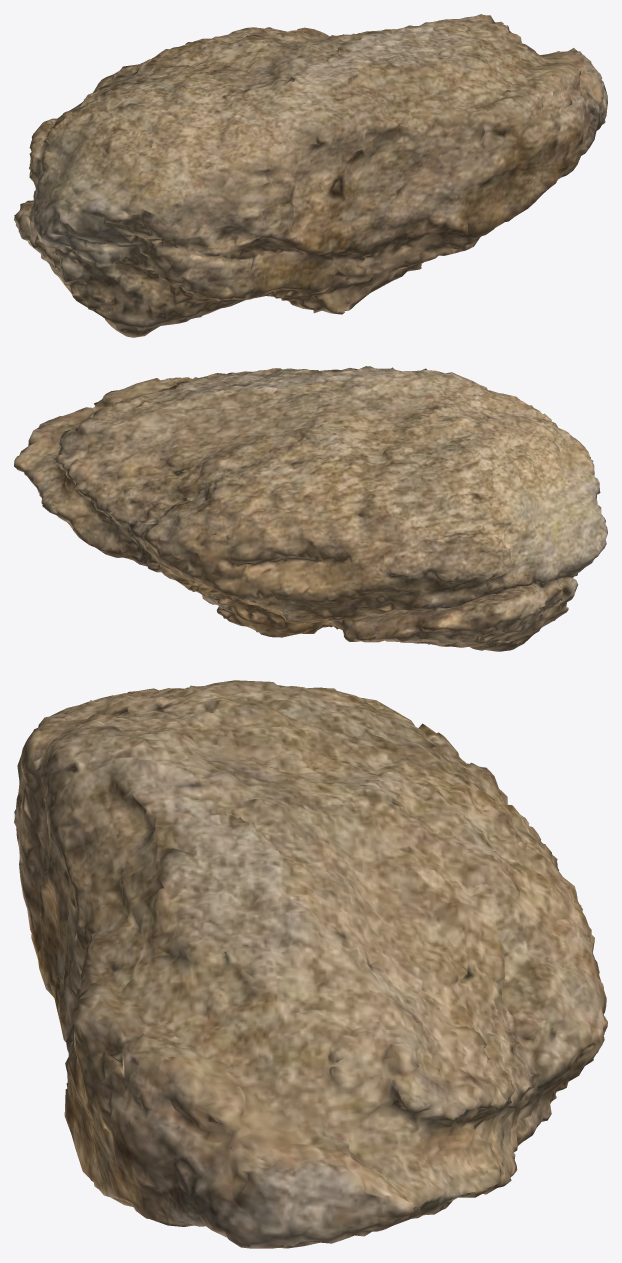
Rendered from boulder_05.glb.
3 renders of one model, top to bottom at view 1: azimuth 30°, elevation 25°; view 2: azimuth 150°, elevation 25°; view 3: azimuth 270°, elevation 25°, orthographic. The views are drawn at different scales.
Visible parts, largest first — view 1: namaqualand_boulder_05; view 2: namaqualand_boulder_05; view 3: namaqualand_boulder_05.
Boxes of the visible parts, x1=… form: namaqualand_boulder_05: x1=14, y1=14, x2=607, y2=337; namaqualand_boulder_05: x1=14, y1=366, x2=607, y2=651; namaqualand_boulder_05: x1=14, y1=680, x2=607, y2=1248.
Bounding box in the file's own units: 1.36 × 0.5383 × 0.748.
Materials: 1 (1 with a texture image).
